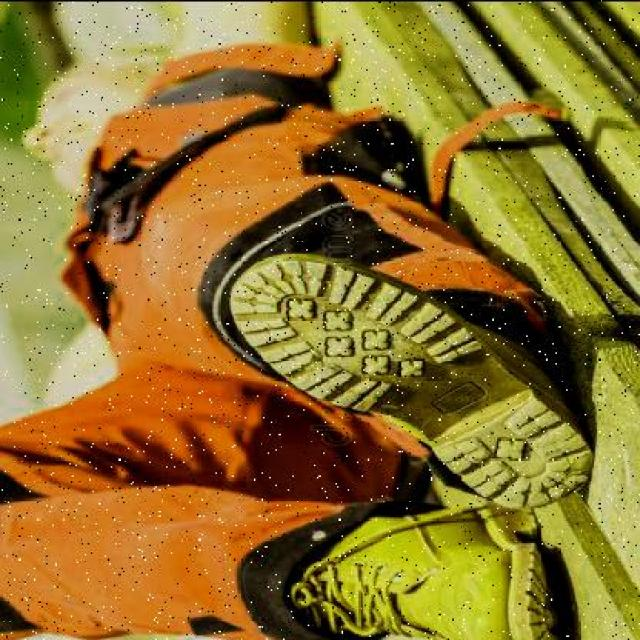shoes: (233, 255, 595, 502), (288, 506, 555, 640)
